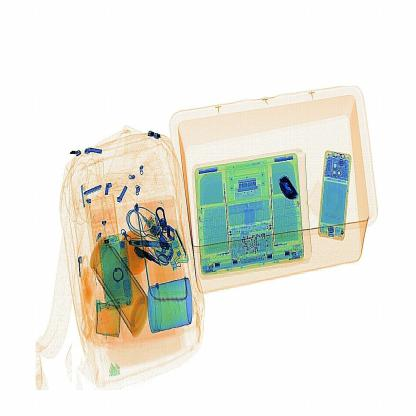scissors: (276, 172, 301, 207)
